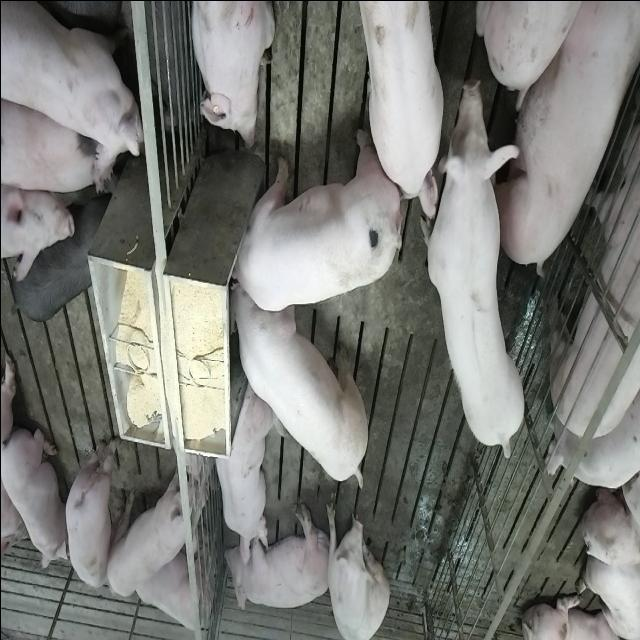Feeding: (220, 127, 397, 311), (230, 280, 372, 497)
Lateral_lying: (223, 500, 331, 614)
Sitting: (324, 495, 390, 639)
Standing: (421, 48, 527, 454), (545, 1, 640, 444), (2, 0, 143, 169), (352, 2, 444, 221), (3, 90, 117, 197), (105, 467, 200, 593), (10, 200, 106, 323), (62, 425, 116, 595)
Sternal_lying: (186, 0, 274, 150), (209, 379, 279, 562), (1, 424, 66, 573), (128, 540, 215, 636)
